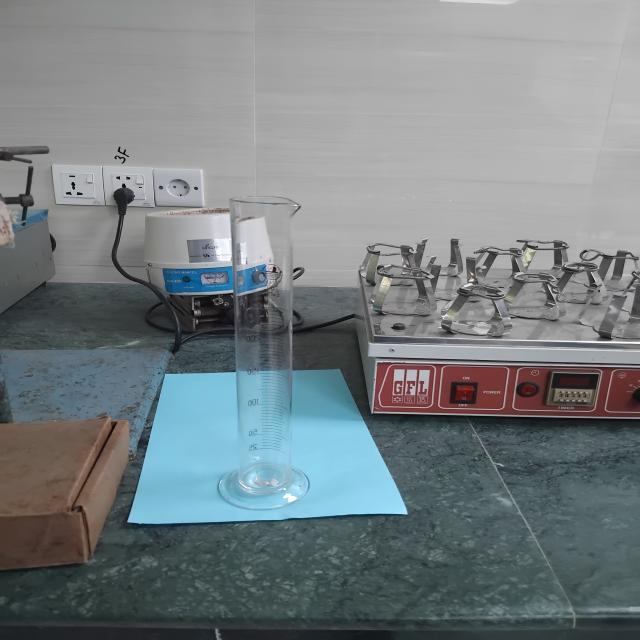Measuring_Cylinder: (176, 133, 370, 532)
